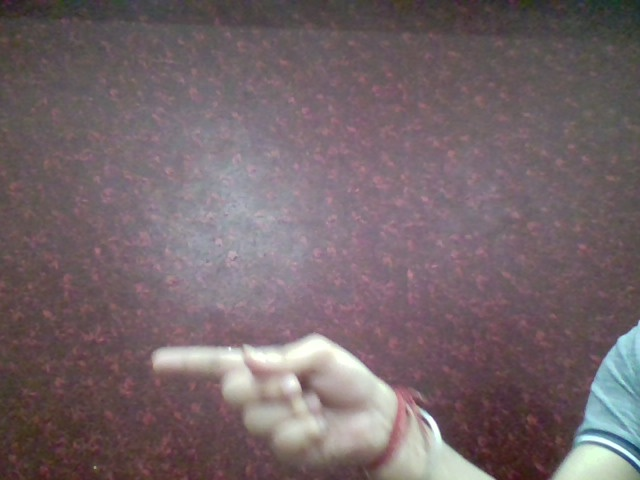g: (140, 317, 396, 474)
